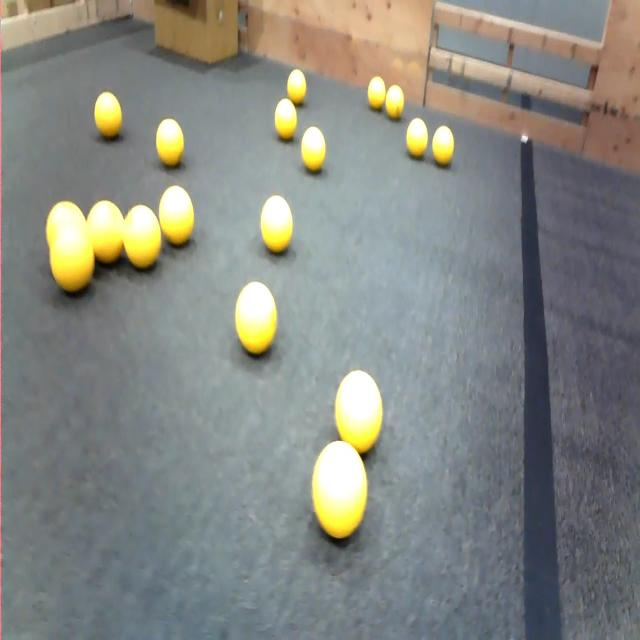fuel: (312, 441, 367, 539), (335, 370, 382, 454), (235, 281, 277, 355), (50, 225, 94, 293), (123, 205, 161, 269), (87, 200, 123, 263), (159, 185, 194, 246), (261, 195, 292, 253), (46, 201, 85, 247), (156, 119, 184, 167), (94, 92, 122, 139), (301, 127, 325, 172), (275, 98, 296, 140), (406, 118, 428, 158), (432, 126, 454, 166), (287, 70, 306, 105), (385, 85, 404, 119), (368, 77, 386, 110)
